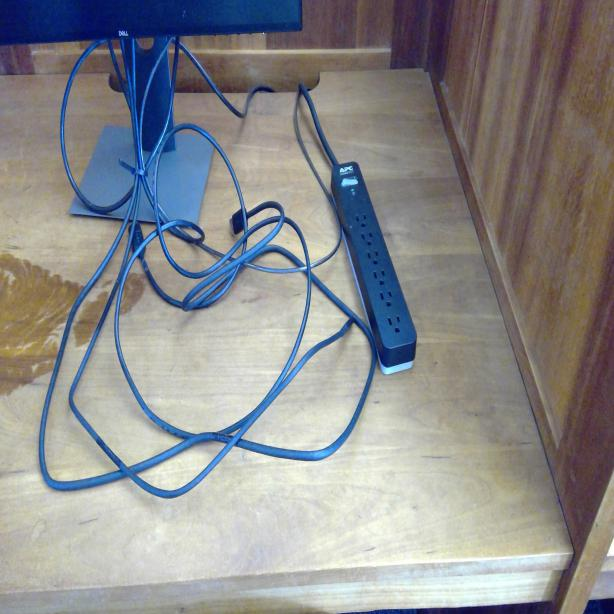typeb: (387, 311, 404, 339), (354, 207, 369, 230), (379, 287, 394, 310), (366, 246, 381, 268), (373, 268, 388, 286), (361, 228, 374, 248)
